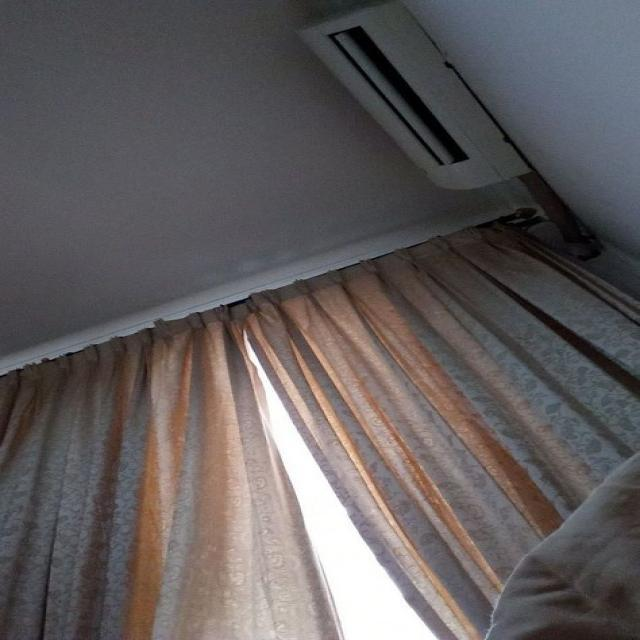AC: (293, 2, 531, 190)
